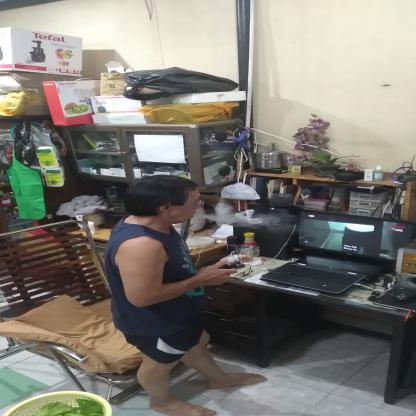person: (106, 175, 251, 414)
smoke: (262, 211, 294, 225), (199, 212, 222, 222)
